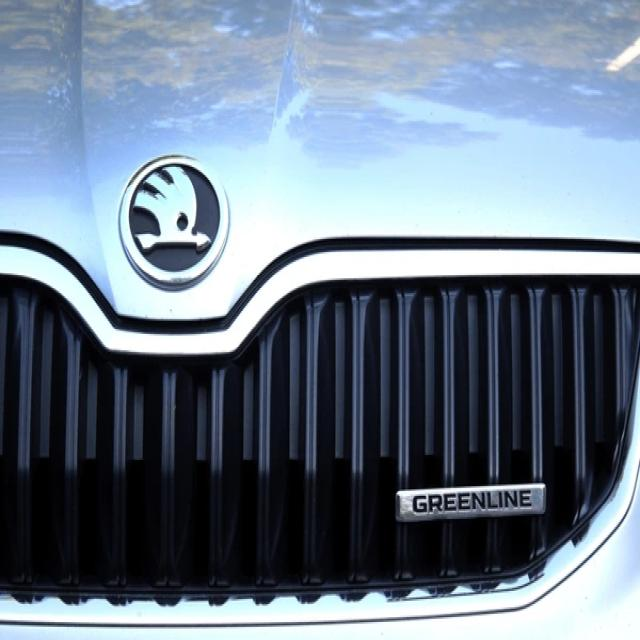skoda: (113, 147, 236, 290)
